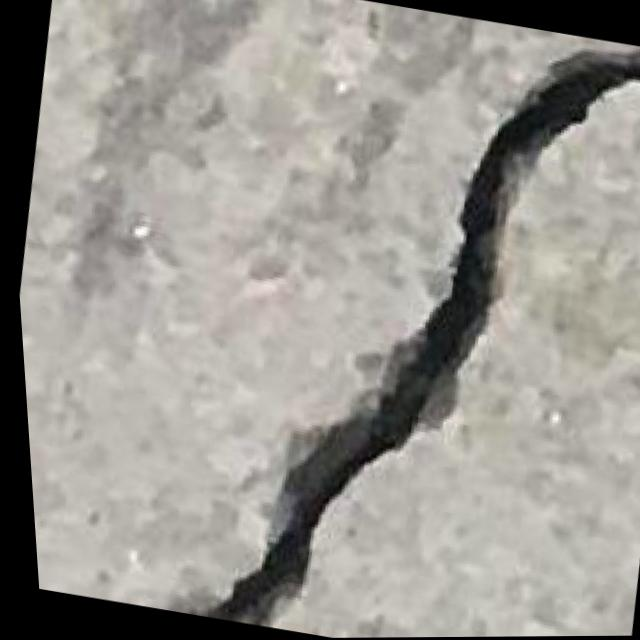Crack: (149, 0, 640, 639)
